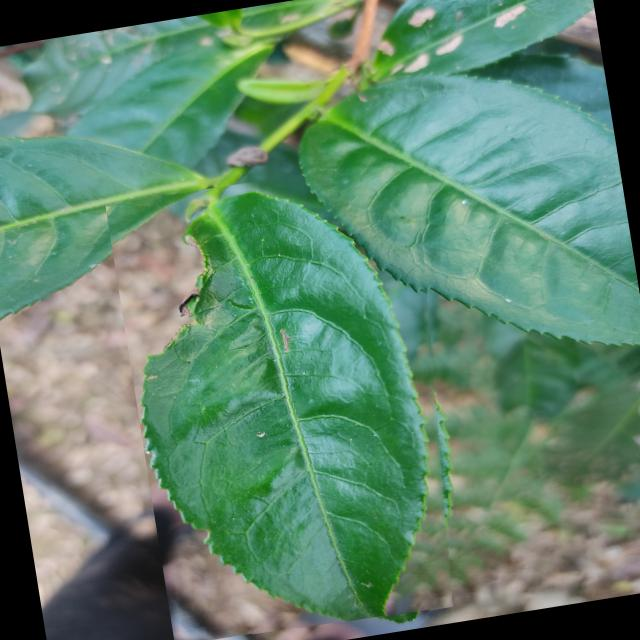Category D(7+ days, Not for Tea): (105, 156, 486, 640)
